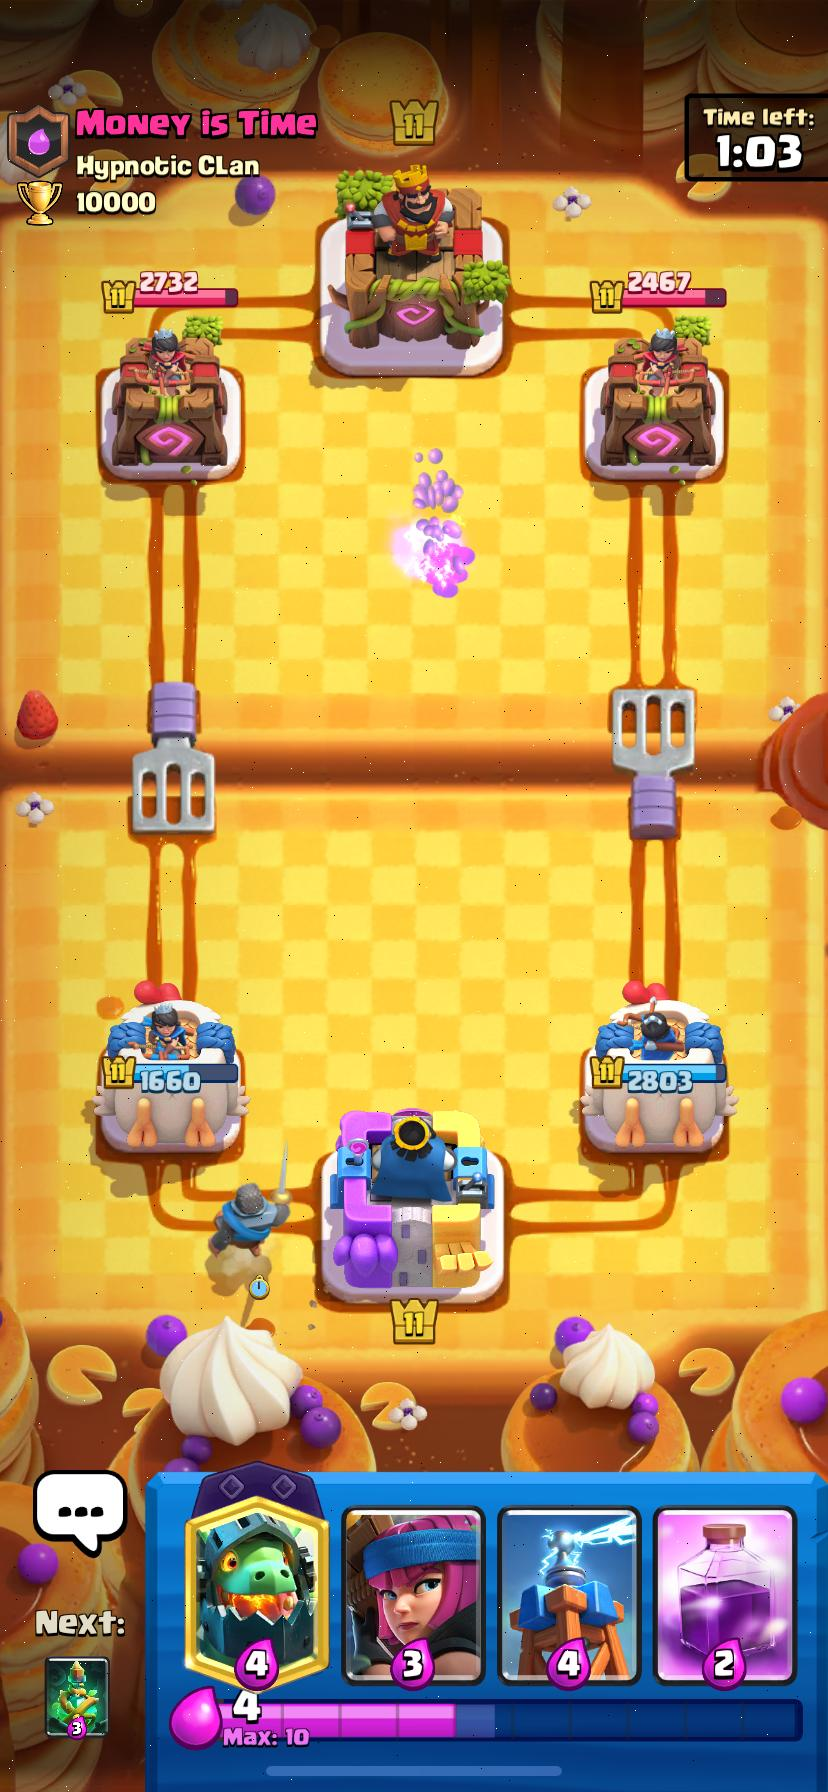EKingTower: (339, 165, 508, 350)
EnemyPrincessTower: (112, 328, 226, 474), (600, 328, 714, 469)
OKnight: (209, 1183, 290, 1254)
OwnKingTower: (323, 1109, 503, 1305)
OwnPrincessTower: (580, 982, 735, 1153), (93, 983, 248, 1152)
